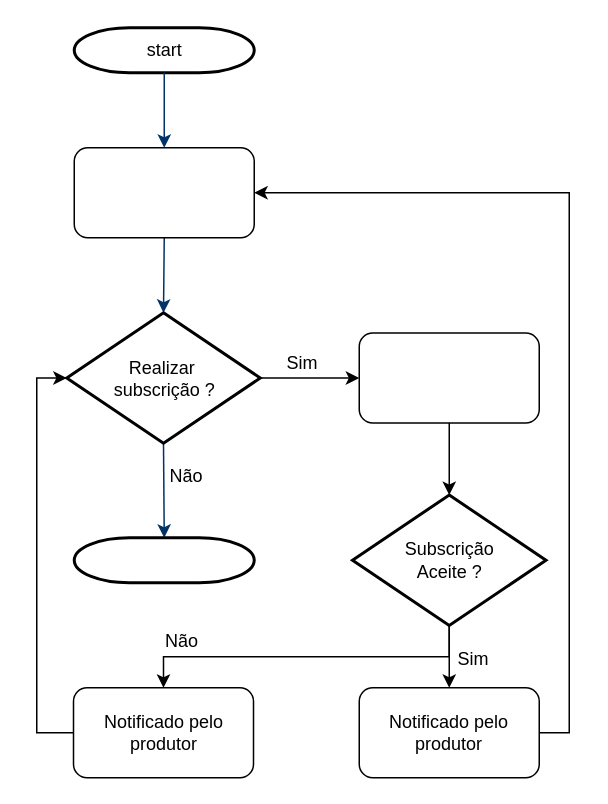
Image size: 608x804. Some labels were removed from this diagram. Here are the shapes that lost their labels. From the top down, the centre of each, then its label:
pixel 163 192: Visualização de subscrições
pixel 448 377: Subscrição enviada para validação
pixel 163 560: end
